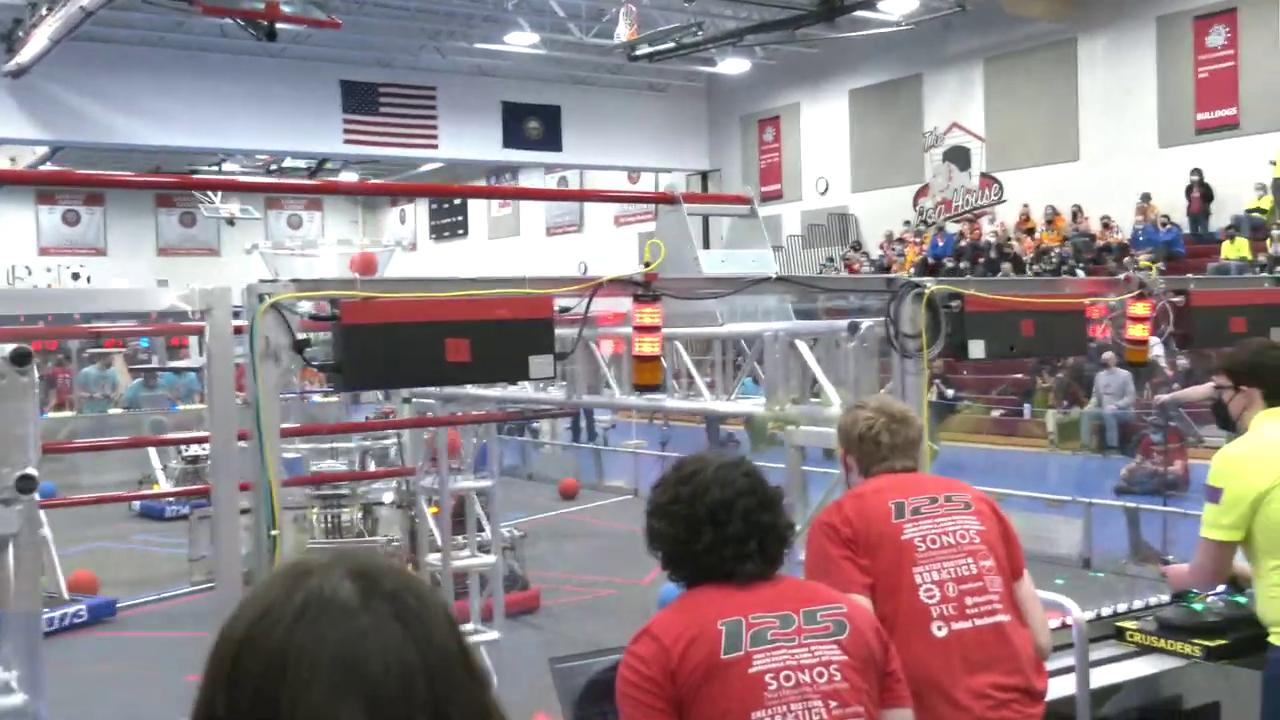robot: (402, 437, 544, 624), (29, 483, 122, 636), (133, 420, 209, 524)
